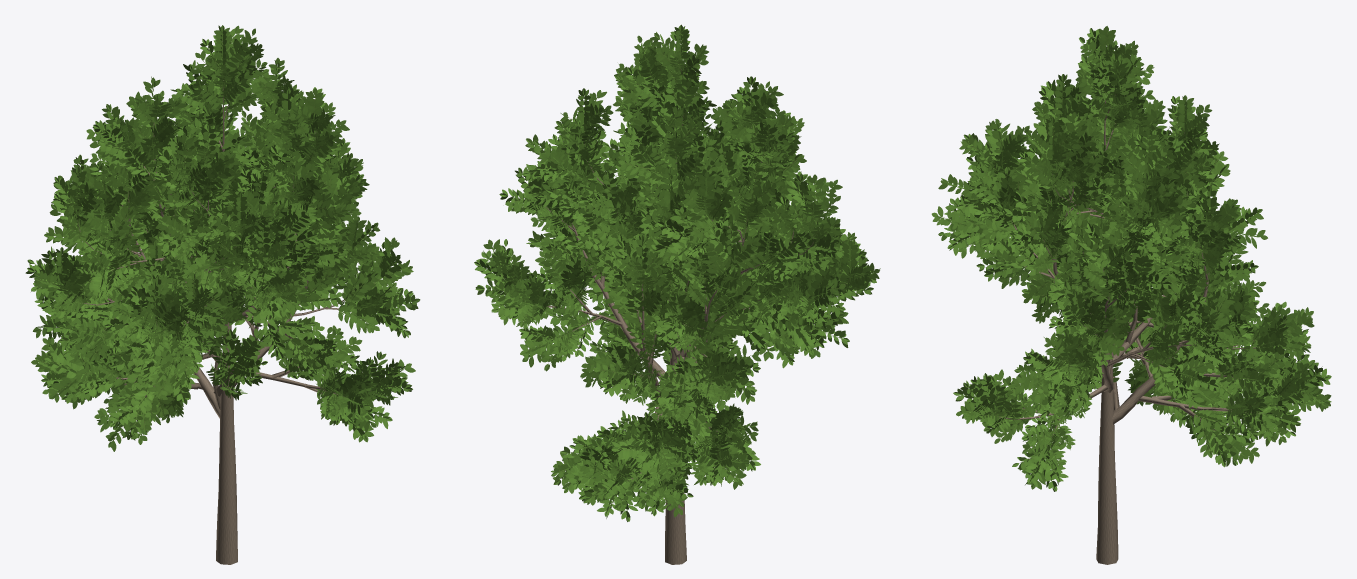
File: oak-lod0.glb
3 views of the same model, side by side, from view 1: azimuth 30°, elevation 25°; view 2: azimuth 150°, elevation 25°; view 3: azimuth 270°, elevation 25° (orthographic).
Visible parts, largest first — view 1: SM_AtlasEzOak; view 2: SM_AtlasEzOak; view 3: SM_AtlasEzOak.
Part boxes in pixels (bbox=[...]): SM_AtlasEzOak: bbox=[25, 25, 420, 564]; SM_AtlasEzOak: bbox=[474, 24, 880, 564]; SM_AtlasEzOak: bbox=[931, 26, 1331, 564].
Bounding box in the file's own units: 11.74 × 15.96 × 11.34.
2 materials, 2 textured.
